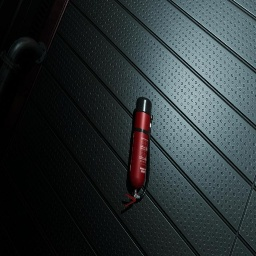FireExtinguisher ]: (124, 97, 153, 207)
